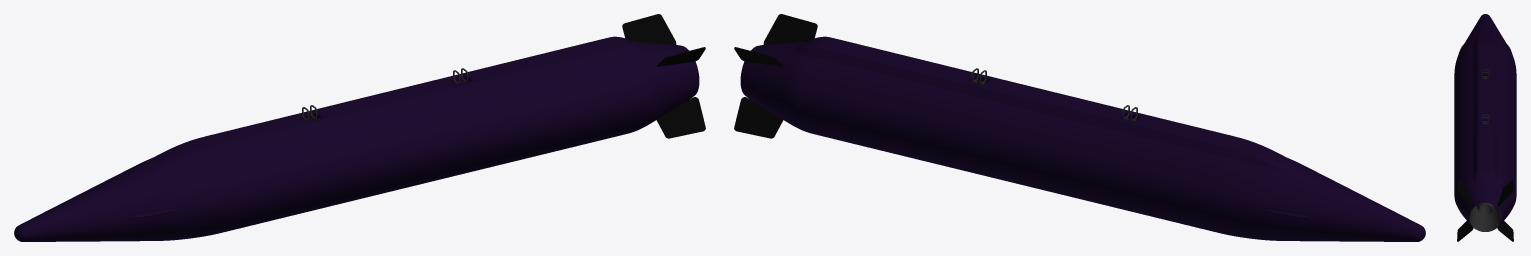
File: GPM-550X.fbx
3 views of the same model, side by side, from view 1: azimuth 30°, elevation 25°; view 2: azimuth 150°, elevation 25°; view 3: azimuth 270°, elevation 25° (orthographic). The views are drawn at different scales.
Visible parts, largest first — view 1: Main, FlightController; view 2: Main, FlightController; view 3: Main, FlightController, DockingPort.
Boxes of the visible parts, x1=… form: Main: x1=14, y1=36, x2=699, y2=241; FlightController: x1=622, y1=14, x2=705, y2=138; Main: x1=740, y1=36, x2=1425, y2=241; FlightController: x1=734, y1=14, x2=817, y2=138; Main: x1=1454, y1=14, x2=1516, y2=231; FlightController: x1=1457, y1=180, x2=1513, y2=241; DockingPort: x1=1481, y1=69, x2=1489, y2=124.
Size of the model in its own units: 1611 by 224 by 211.
